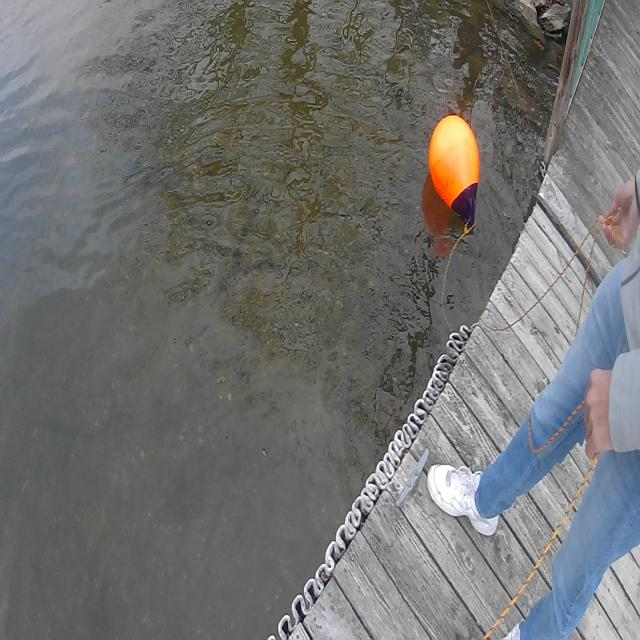Buoy: (428, 108, 480, 210)
